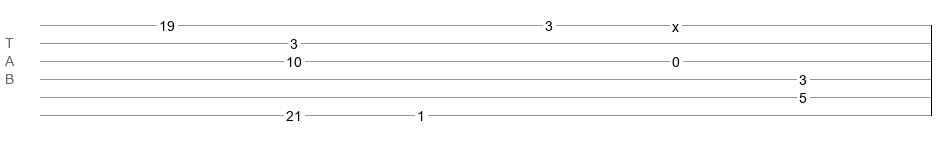0: (672, 54, 680, 64)
1: (417, 108, 425, 118)
10: (286, 54, 302, 64)
19: (159, 18, 175, 28)
21: (286, 108, 302, 118)
3: (290, 36, 298, 46), (545, 18, 553, 28), (799, 72, 807, 82)
5: (799, 90, 807, 100)
x: (672, 19, 679, 27)
